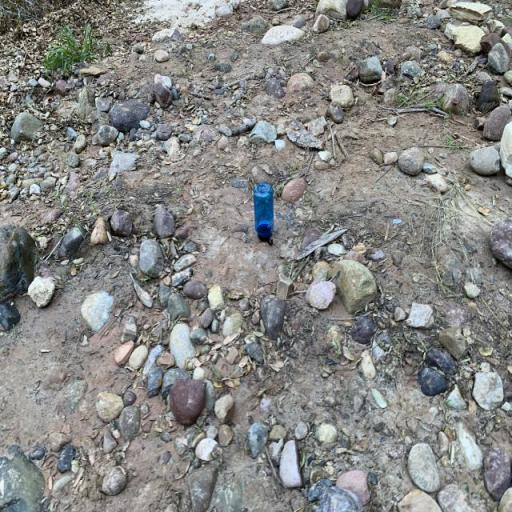bottle: (254, 182, 274, 246)
